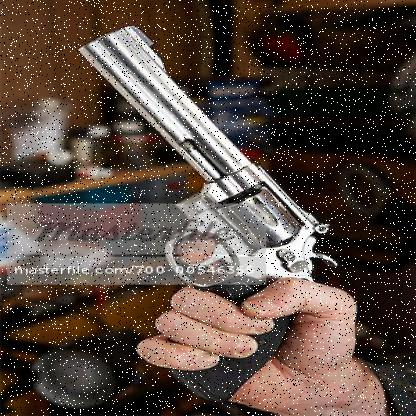pistol: (71, 26, 318, 396)
